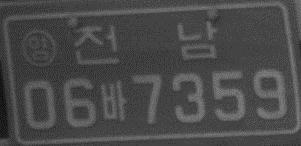0: (22, 78, 56, 131)
3: (172, 72, 205, 124)
5: (210, 70, 246, 123)
6: (61, 76, 96, 128)
7: (130, 73, 163, 126)
9: (252, 68, 286, 121)
바: (99, 80, 127, 122)
영: (20, 28, 58, 69)
전남_D: (72, 21, 217, 65)
